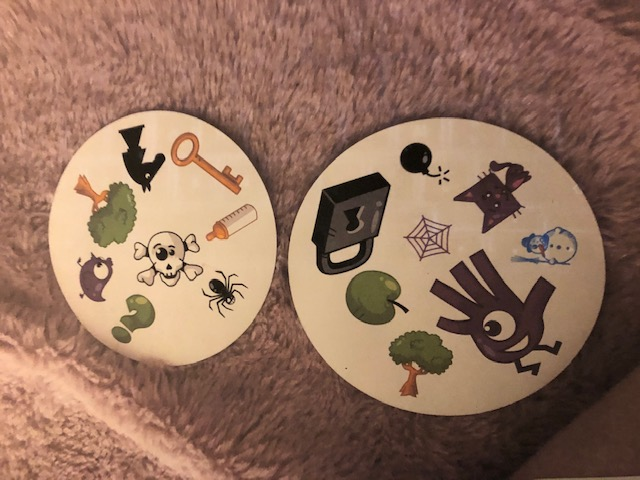araignee: (198, 262, 250, 318)
arbre: (69, 173, 140, 245), (382, 328, 452, 399)
biberon: (207, 202, 258, 247)
bombe: (397, 138, 451, 185)
bonhomme_neige: (508, 222, 585, 271)
cadenas: (305, 170, 390, 275)
chat: (447, 154, 539, 237)
cheval: (116, 123, 165, 194)
cle: (169, 129, 244, 195)
dooble: (422, 244, 570, 377)
oiseau: (72, 250, 117, 302)
point_interrogation: (111, 293, 156, 342)
pomme: (341, 268, 408, 328)
tete_mort: (132, 222, 207, 291)
toile: (401, 209, 457, 263)
